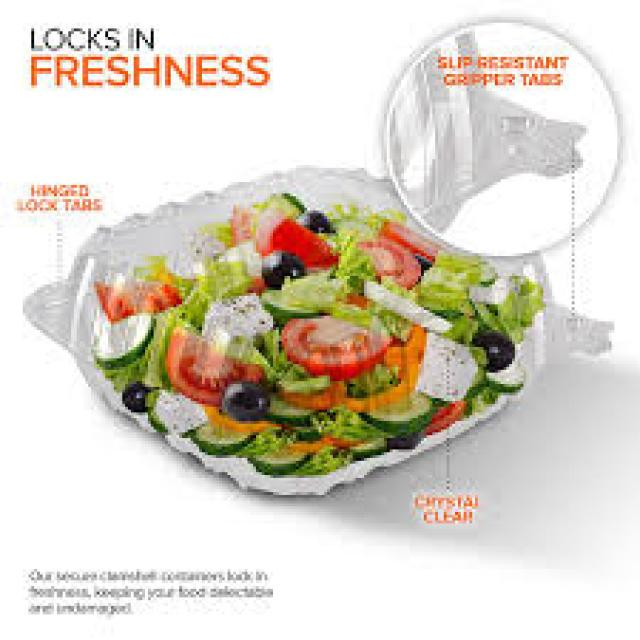disposable: (56, 162, 605, 532)
